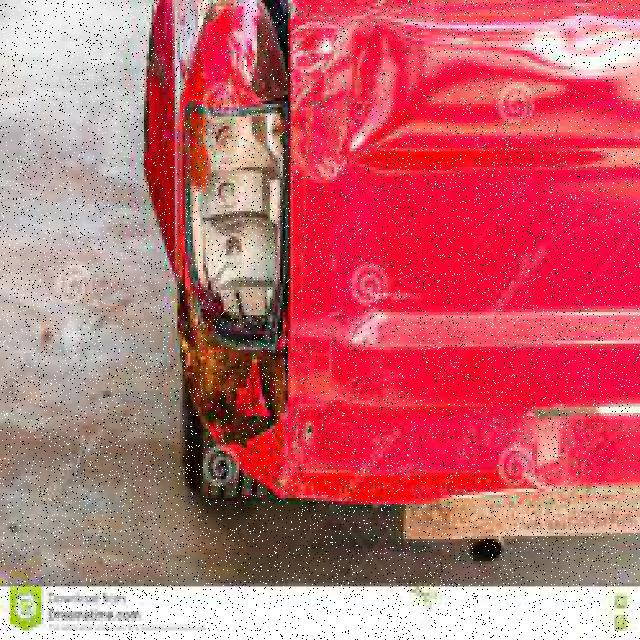Taillight-Damage: (139, 0, 337, 362)
